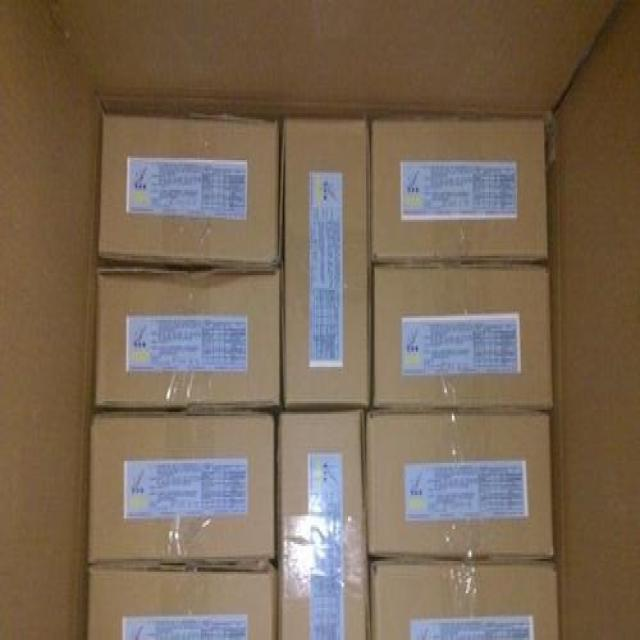box: (87, 405, 275, 565), (365, 407, 556, 561), (99, 113, 279, 269), (279, 119, 372, 414), (93, 265, 280, 410), (371, 262, 554, 410), (372, 117, 548, 265), (275, 410, 371, 640), (367, 559, 559, 640), (87, 559, 276, 640)
